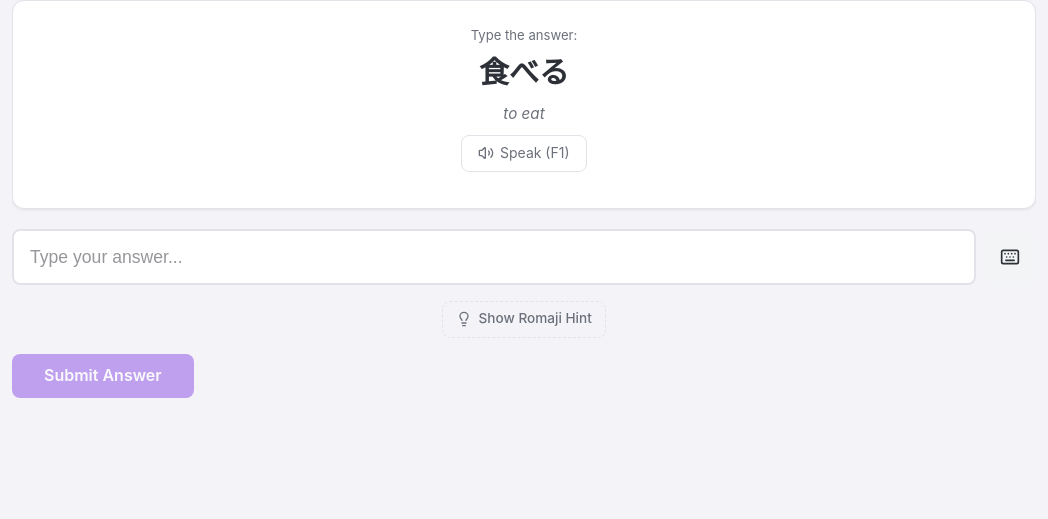
it: TypingQuiz Component › Answer Validation › should show wrong feedback for incorrect answer
Type "nomu" into the field with placeholder "Type your answer..." at (494, 257), box [12,229,976,285]
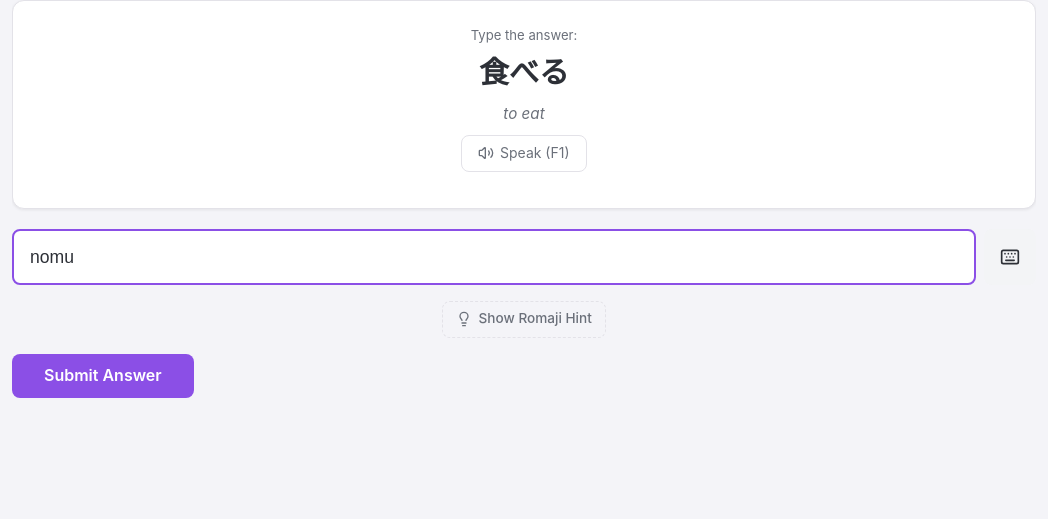
Click the button "Submit Answer" at (103, 376), box [12,354,194,398]
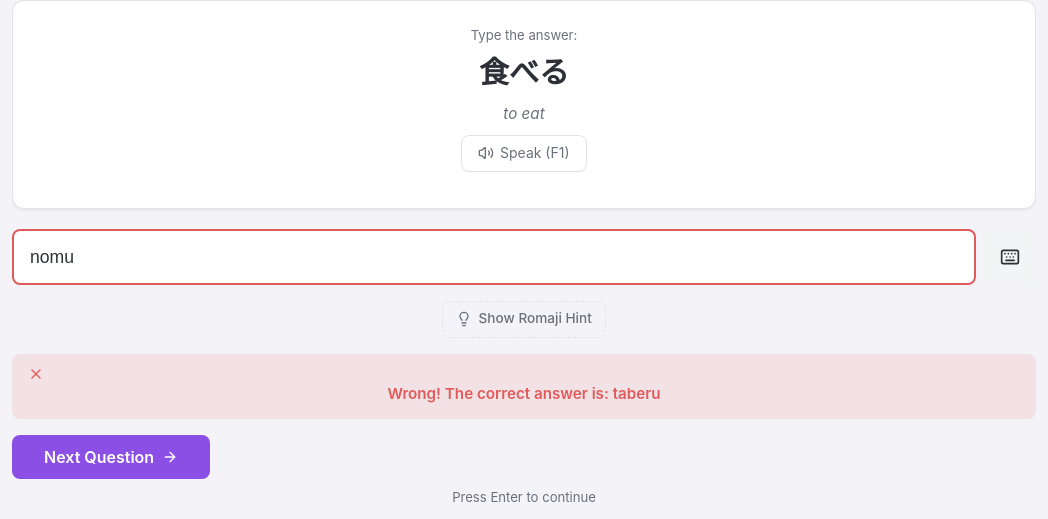
Result: the text "Wrong! The correct answer is: taberu" is shown at [12,354,1036,419]
